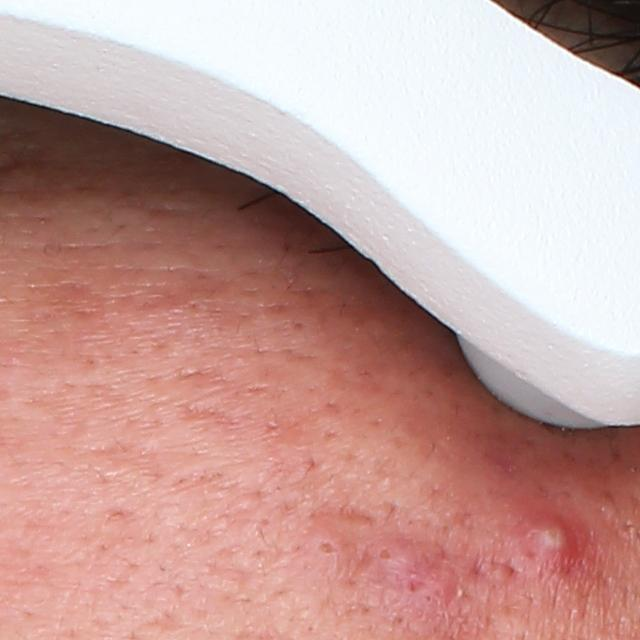pustule: (517, 512, 582, 572)
